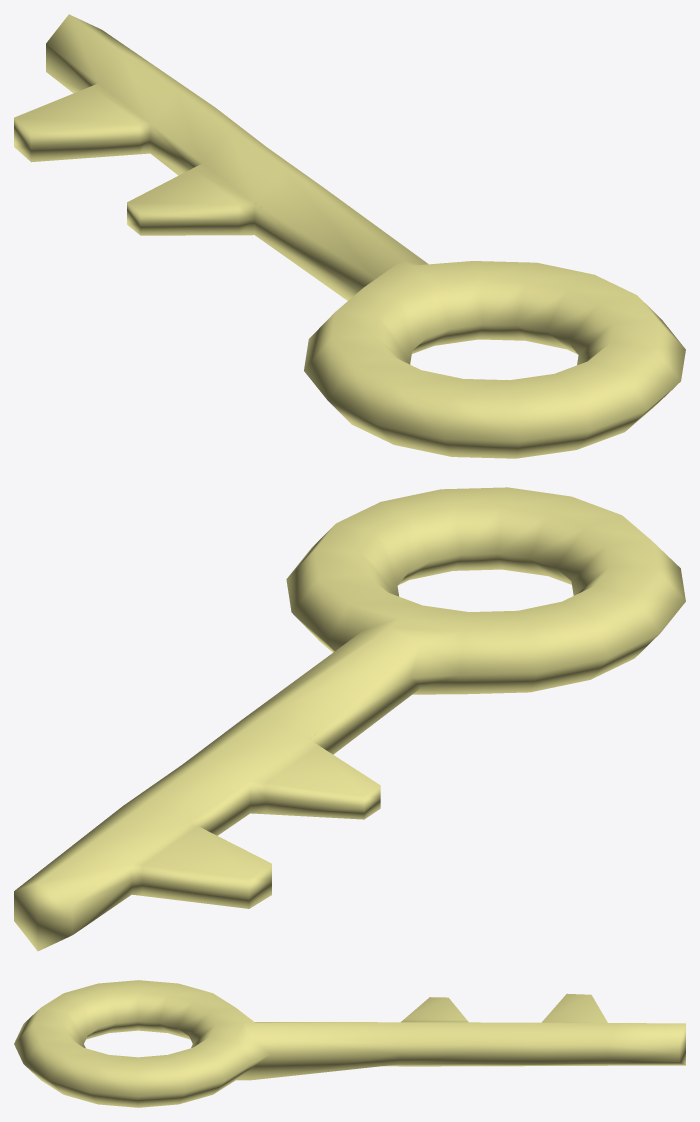
The model's file is llave.fbx.
3 views of the same model, one above another, from view 1: azimuth 30°, elevation 25°; view 2: azimuth 150°, elevation 25°; view 3: azimuth 270°, elevation 25° (orthographic). The views are drawn at different scales.
Visible parts, largest first — view 1: llave; view 2: llave; view 3: llave.
Part boxes in pixels (x1,y1,x2,y2): llave: (14, 14, 685, 458); llave: (14, 487, 685, 951); llave: (14, 980, 685, 1107).
Size of the model in its own units: 6 by 1.33 by 16.31.
